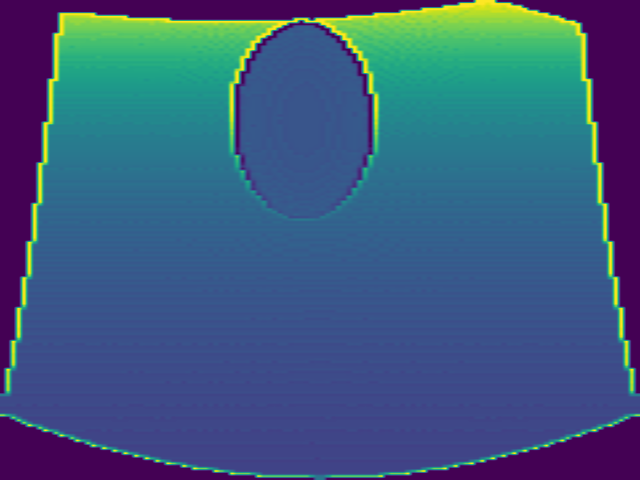sphere: (227, 21, 378, 219)
